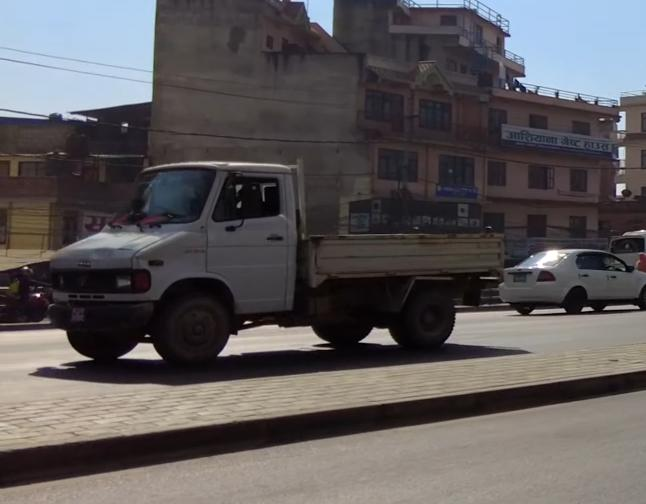car: (504, 241, 646, 317)
mini_truck: (38, 150, 510, 384)
